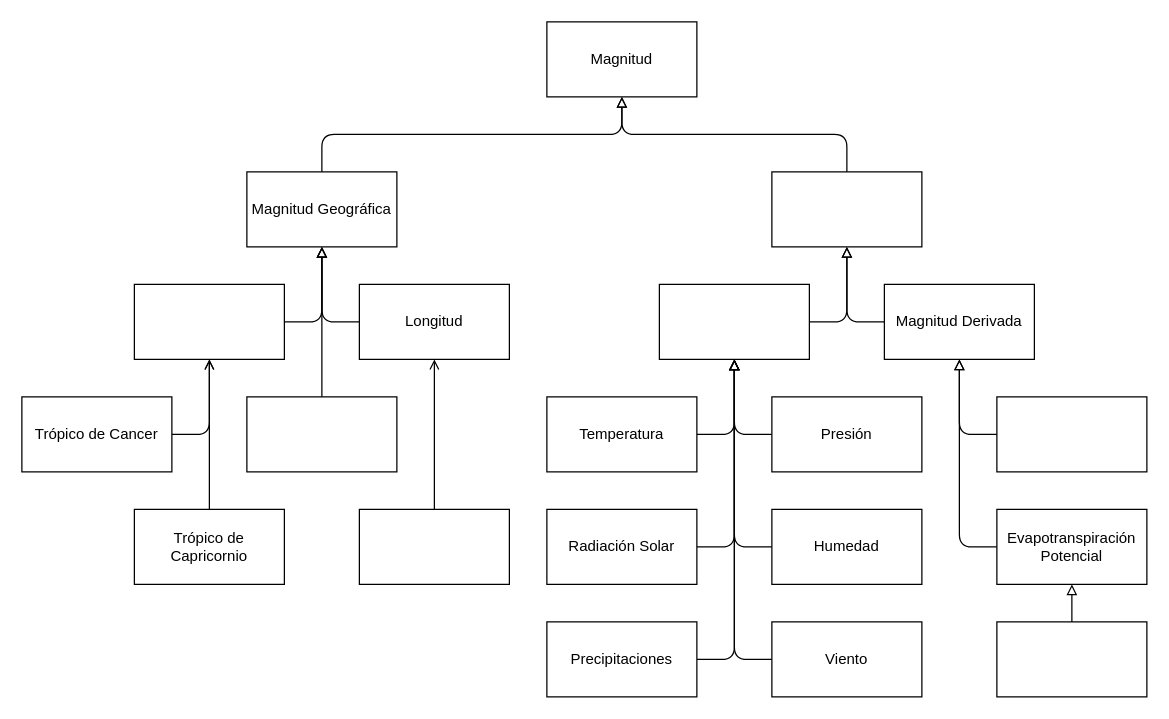
This 1169x719 diagram has some shape labels left out. Here are the shapes that lost their labels. From the top down, the centre of each, then its label:
At [846,209]: "Magnitud Climática".
At [208,321]: "Latitud".
At [733,321]: "Magnitud Directa".
At [321,434]: "Altitud".
At [1071,434]: "Biotemperatura".
At [433,546]: "Meridiano de Greenwi ch".
At [1071,659]: "Relacion de Evapotranspiración Potencial".
